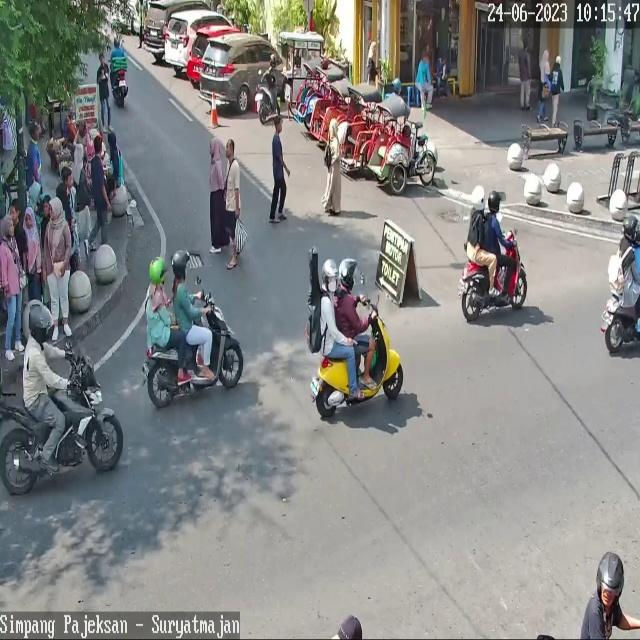bus: (0, 354, 124, 498), (143, 292, 244, 410), (312, 293, 404, 418), (461, 229, 528, 323), (602, 288, 640, 353)
motorcycle: (201, 34, 286, 113), (164, 9, 233, 67), (144, 0, 212, 54), (186, 24, 242, 82)
